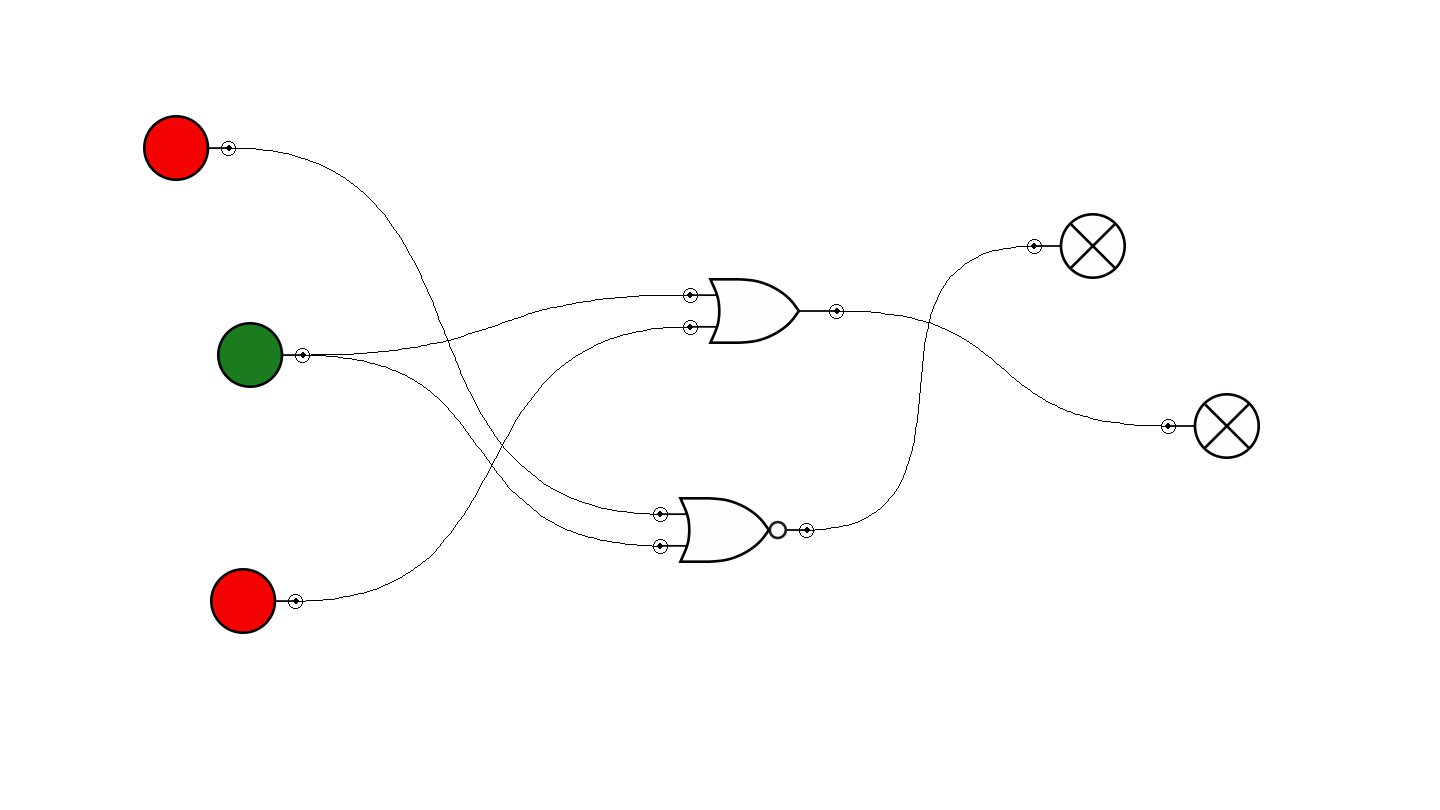bulb: (1027, 213, 1126, 279), (1161, 393, 1260, 459)
nor: (653, 497, 814, 563)
or: (683, 278, 844, 344)
switch_False: (210, 568, 303, 634), (143, 115, 236, 181)
switch_True: (217, 322, 310, 388)
